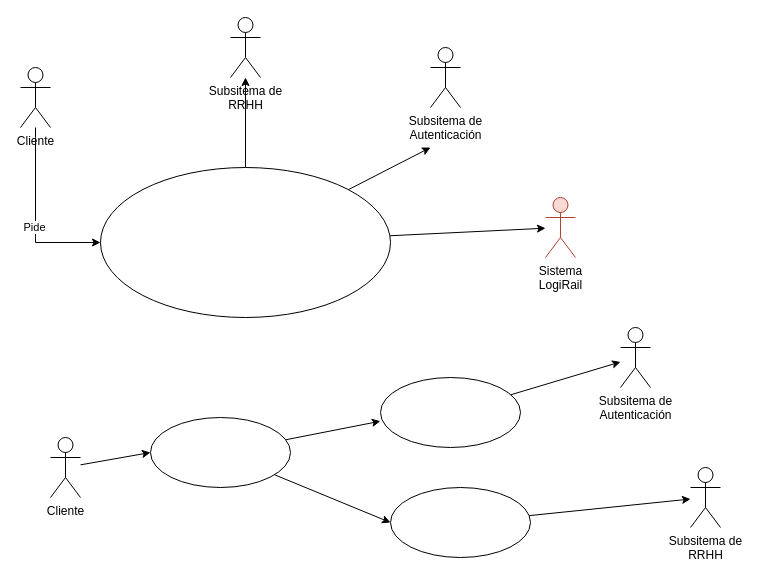
The diagram is 759 pixels wide and 581 high, and some of its shapes have lost their labels. Each missing label, with the box of its shape:
Introducir Credenciales: (150, 416, 290, 488)
Solicita datos Empleado: (390, 486, 530, 558)
Solicita Validar Credenciales: (380, 376, 520, 448)
Subsistema de algo: (100, 166, 390, 318)
